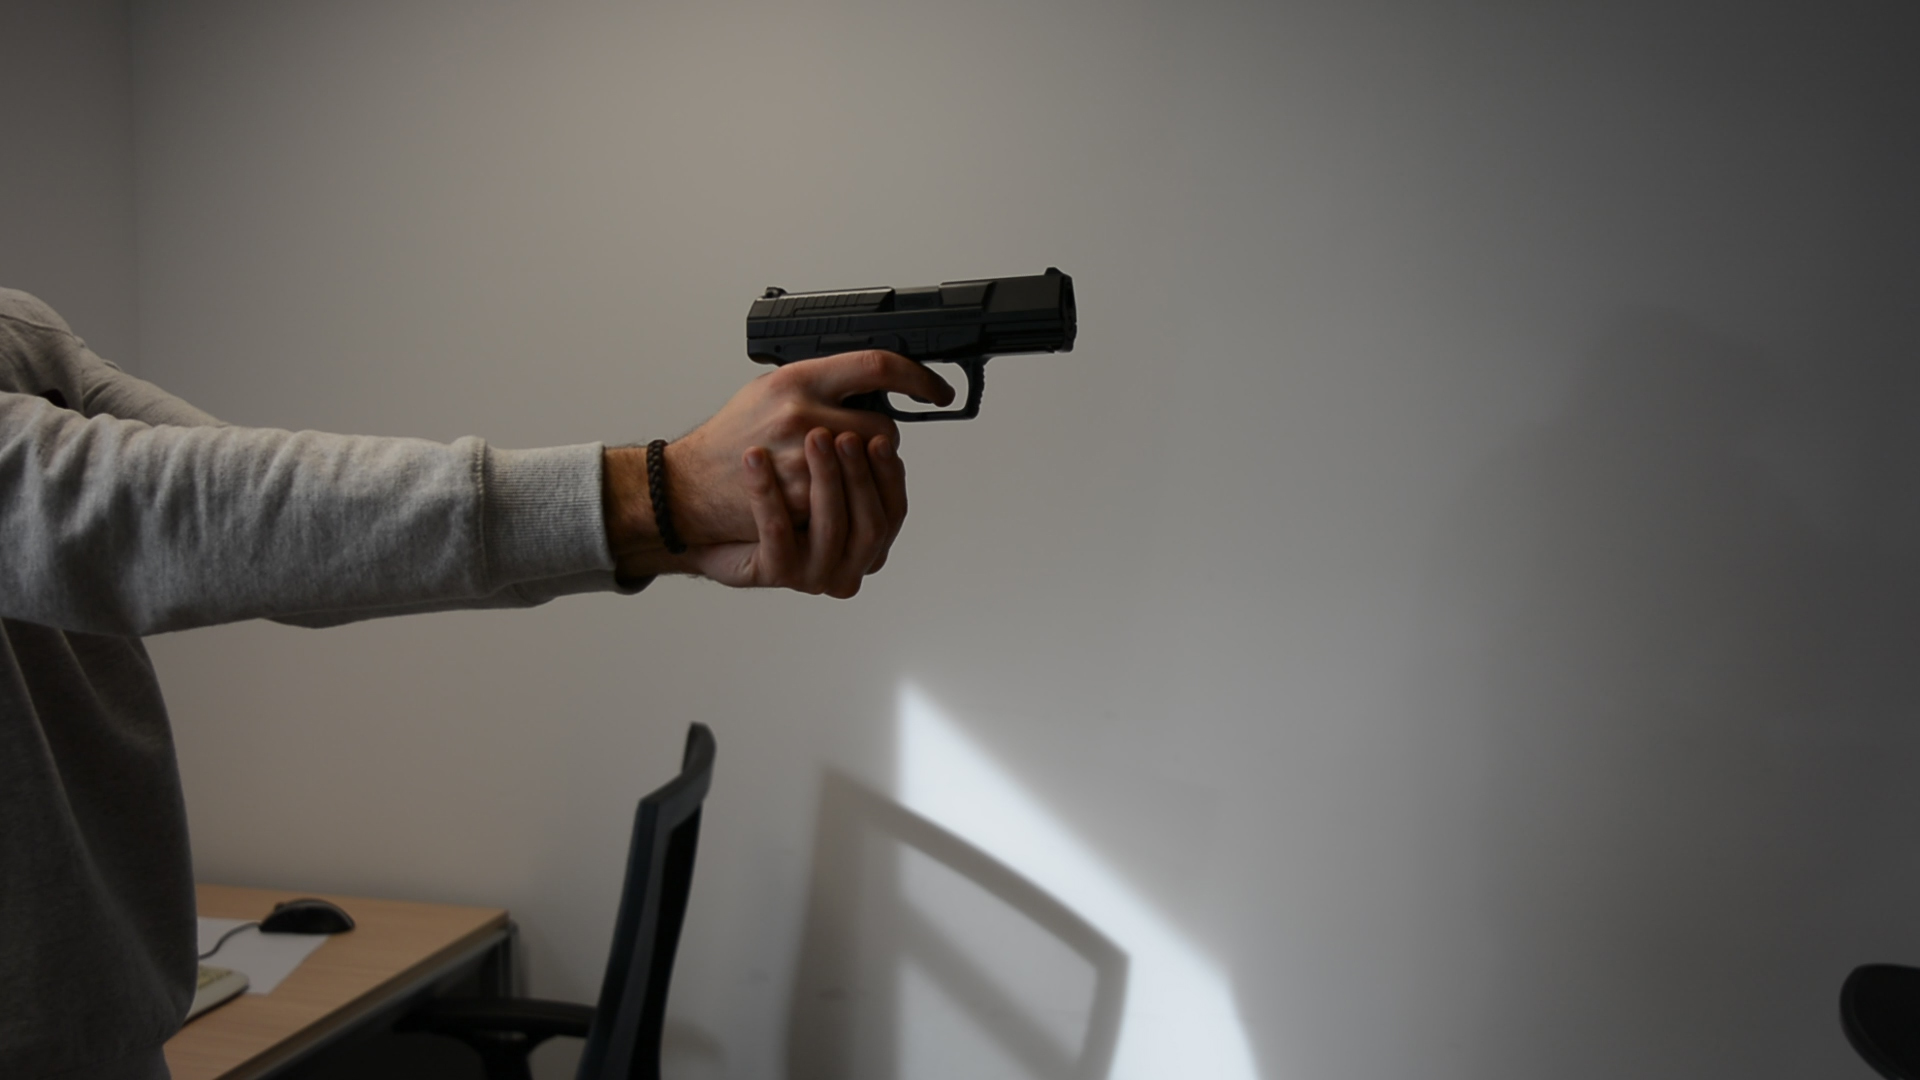pistol: (745, 264, 1079, 426)
